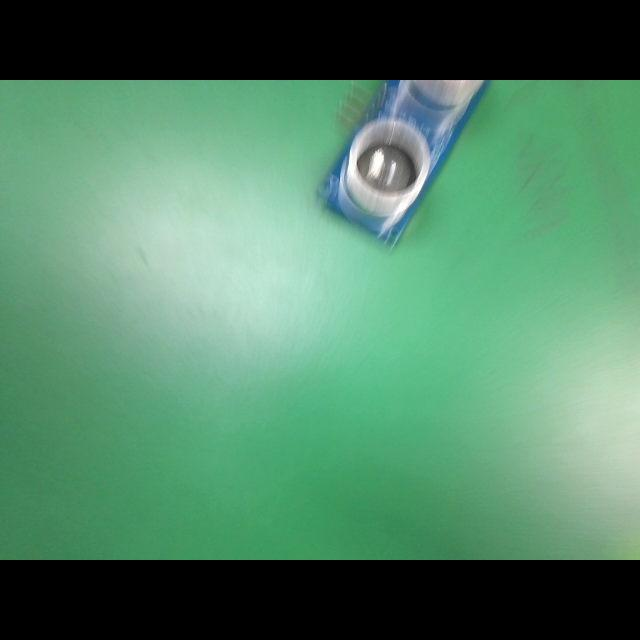ultrasonic_hc-sr04: (318, 80, 494, 248)
